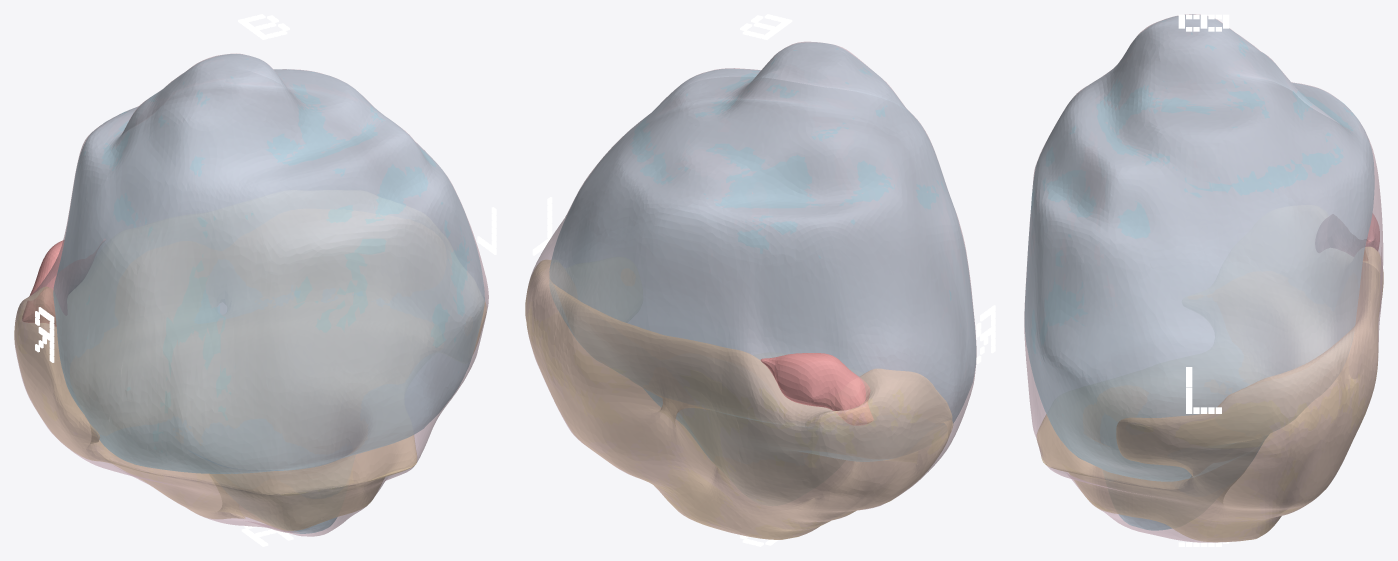
The picture shows the model from 3 angles, left to right: view 1: azimuth 30°, elevation 25°; view 2: azimuth 150°, elevation 25°; view 3: azimuth 270°, elevation 25°; orthographic projection.
Parts seen in each view (by area): view 1: prostate_gland, transition_zone, peripheral_zone, lesion_01, pv_ar_marker_B, pv_ar_marker_R; view 2: prostate_gland, transition_zone, peripheral_zone, lesion_01, pv_ar_marker_B, pv_ar_marker_R; view 3: prostate_gland, transition_zone, peripheral_zone, lesion_01, pv_ar_marker_B, pv_ar_marker_L.
Boxes of the visible parts, x1,y1,x2,y2 form: prostate_gland: (14,53,488,536); transition_zone: (53,54,484,533); peripheral_zone: (14,287,486,530); lesion_01: (22,239,105,326); pv_ar_marker_B: (238,14,289,39); pv_ar_marker_R: (35,307,54,362); prostate_gland: (525,41,976,539); transition_zone: (549,42,975,461); peripheral_zone: (525,260,952,539); lesion_01: (760,353,873,425); pv_ar_marker_B: (740,14,792,39); pv_ar_marker_R: (976,305,995,363); prostate_gland: (1024,14,1383,542); transition_zone: (1025,14,1374,530); peripheral_zone: (1036,247,1383,541); lesion_01: (1315,213,1379,260); pv_ar_marker_B: (1178,14,1229,31); pv_ar_marker_L: (1186,367,1221,413).
Bounding box in the file's own units: 0.0571 × 0.0625 × 0.0394.
